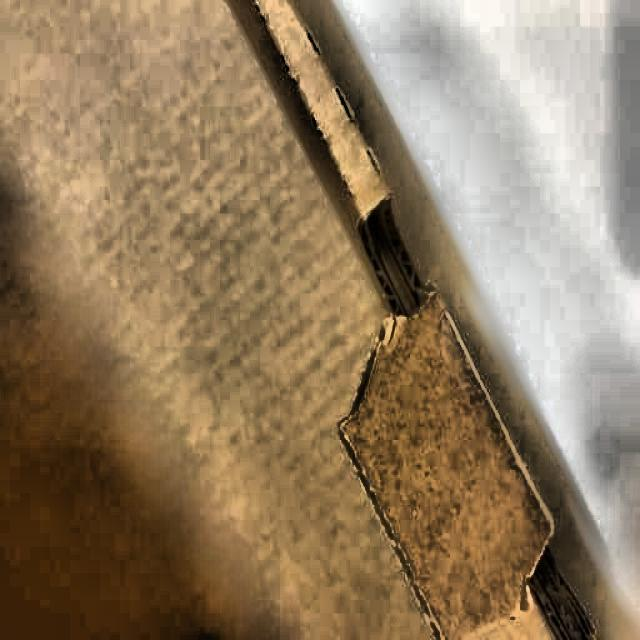cardboard: (50, 0, 600, 640)
